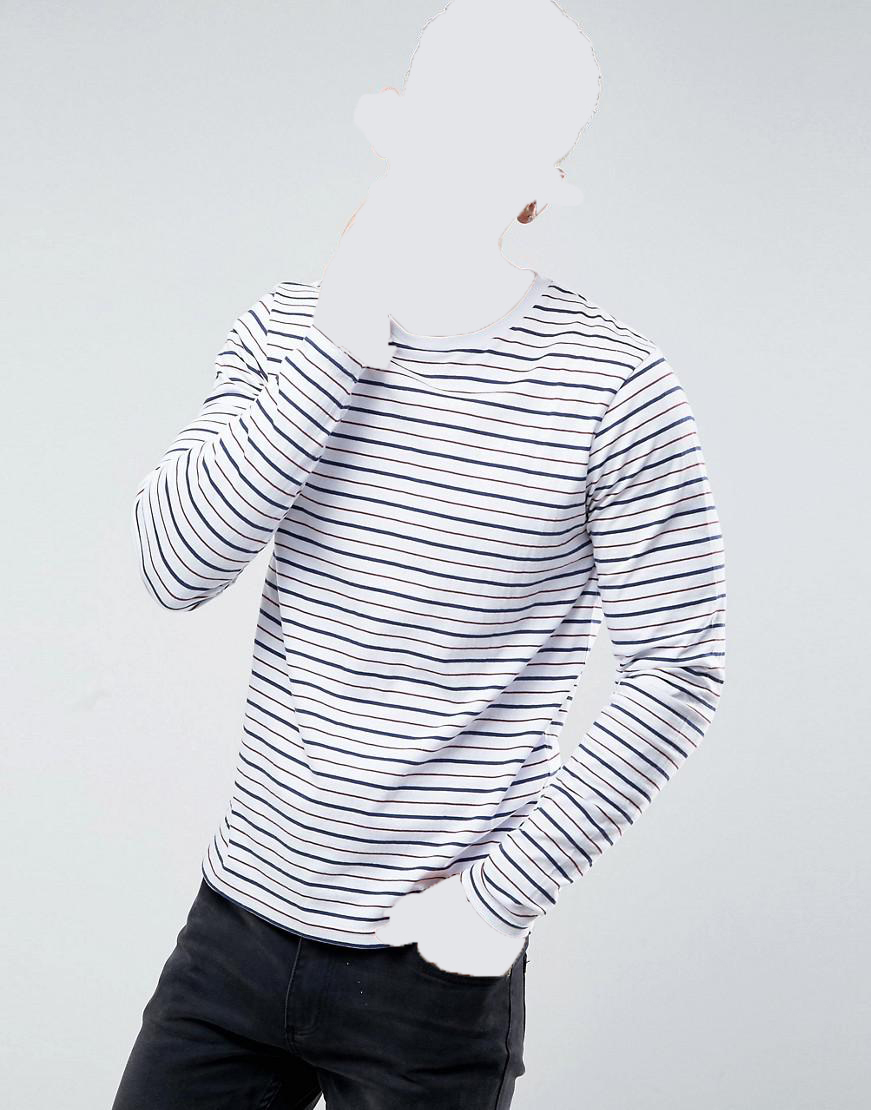teeshirt: (124, 266, 740, 968)
